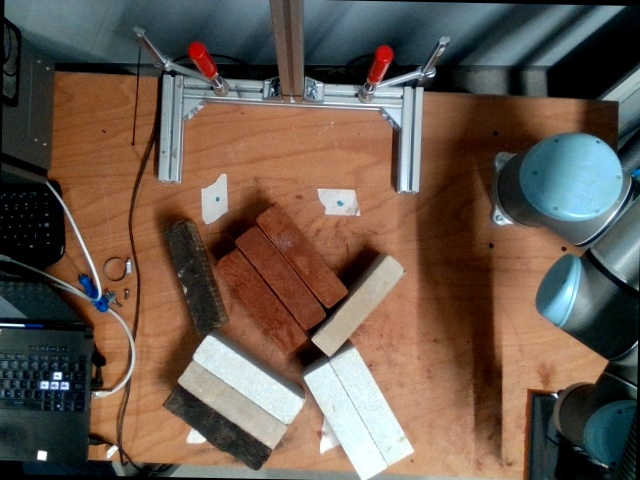brick-side: (193, 337, 300, 422), (178, 362, 285, 447), (163, 386, 270, 471), (315, 256, 405, 355), (257, 206, 344, 306), (236, 226, 323, 326), (217, 250, 304, 350), (333, 352, 411, 462), (307, 367, 385, 477), (161, 223, 217, 333)
